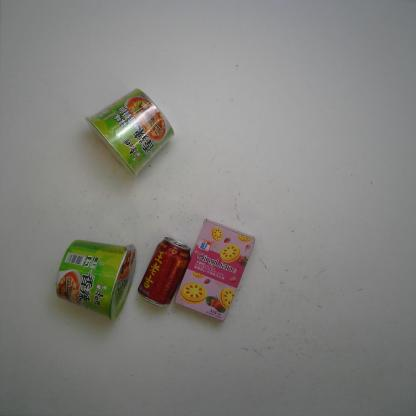Dessert: (174, 218, 254, 323)
Drink: (138, 236, 192, 307)
Instant Noodles: (82, 88, 176, 178), (58, 240, 138, 320)
